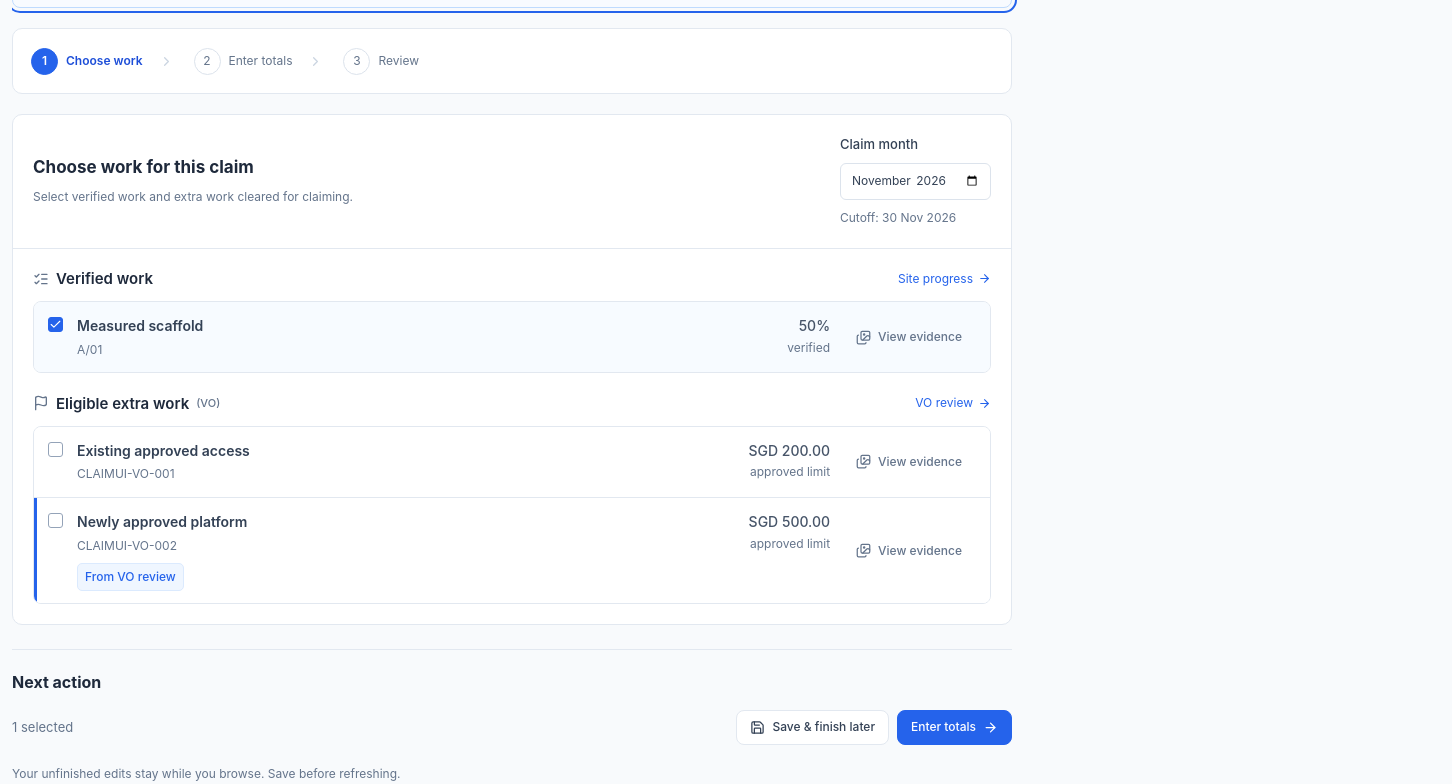
Test: approved VO handoff to monthly claims › retains the buffered month and unfinished values when opened from VO review
This screenshot has width=1452, height=784.
(page scrolled)
Expected: the field named "Claim period" holds "2026-11", [840,163,991,200]
Click the button "Enter totals" at (954, 728), box [897,710,1012,745]
(page scrolled)
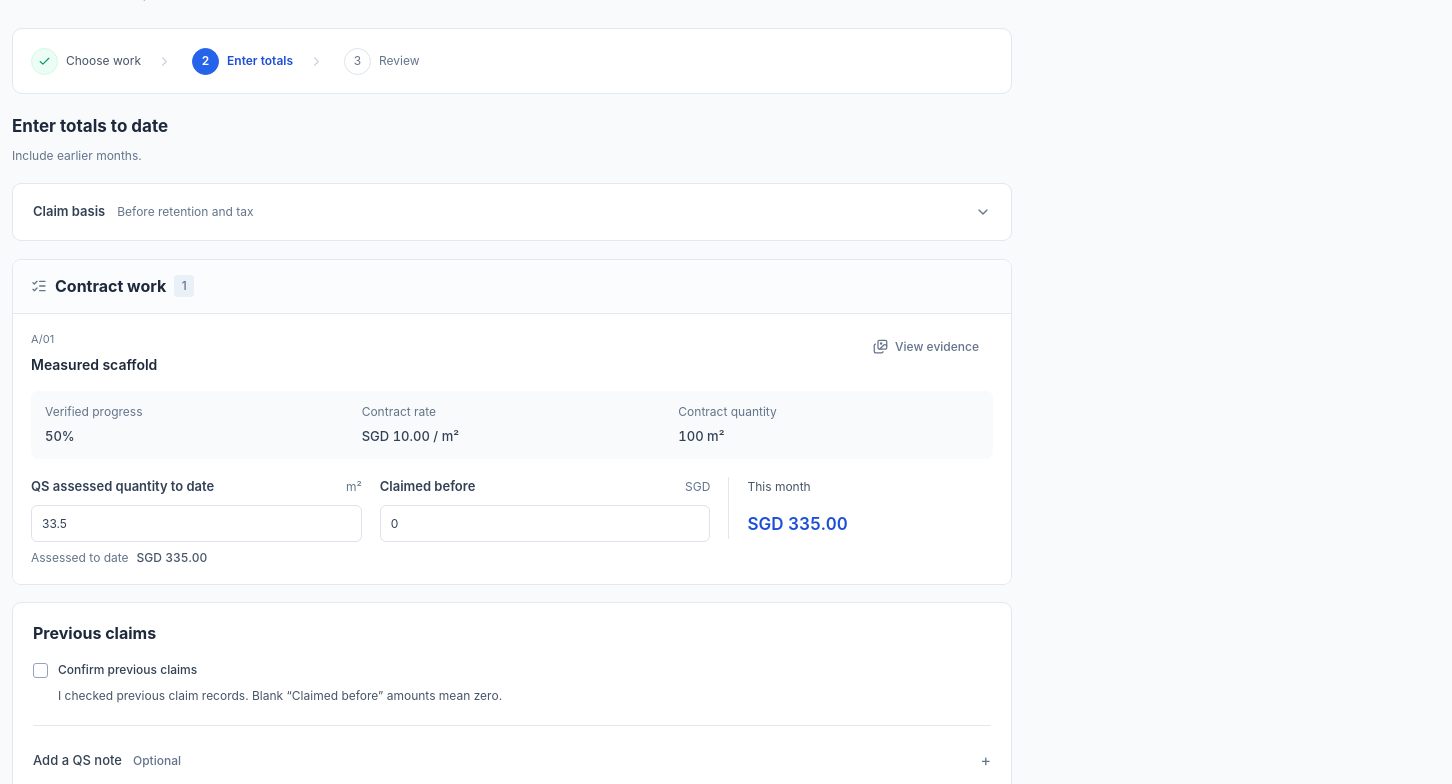
Expected: the number field named "A QS cumulative quantity" holds "33.5", [31,504,362,542]
